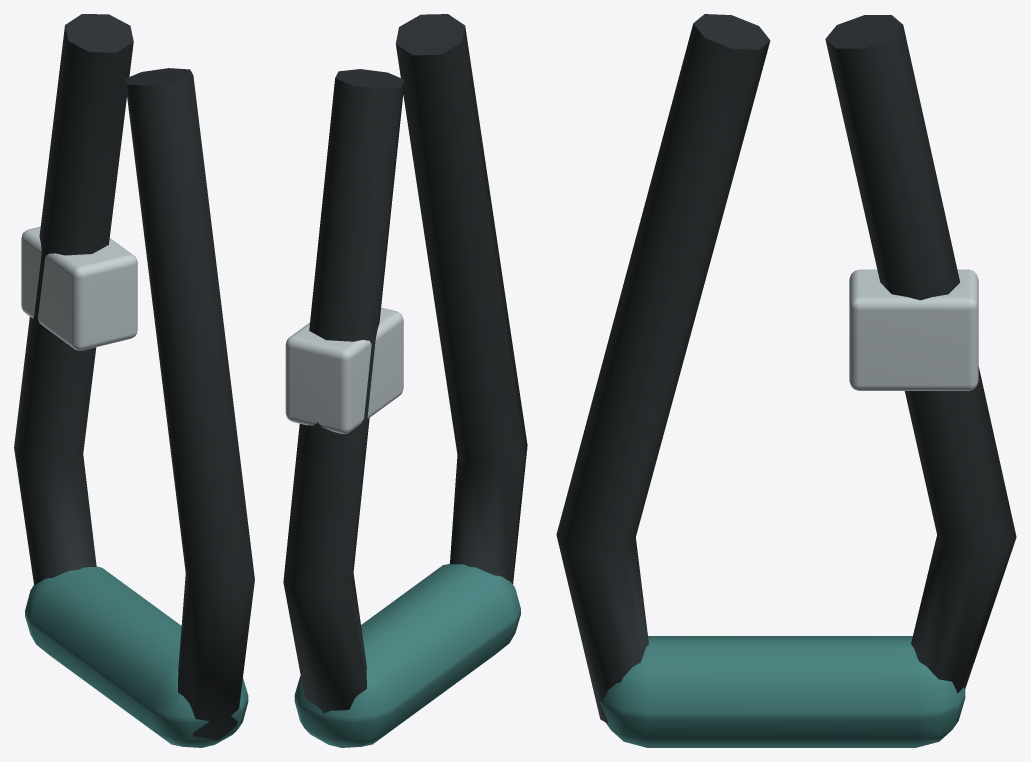
The model's file is BraunStrap.fbx.
3 views of the same model, side by side, from view 1: azimuth 30°, elevation 25°; view 2: azimuth 150°, elevation 25°; view 3: azimuth 270°, elevation 25° (orthographic). The views are drawn at different scales.
Visible parts, largest first — view 1: BraunStrap; view 2: BraunStrap; view 3: BraunStrap.
Boxes of the visible parts, <box> form: BraunStrap: <box>14,14,254,747</box>; BraunStrap: <box>283,14,527,747</box>; BraunStrap: <box>556,14,1016,747</box>.
Bounding box in the file's own units: 3.5 × 23.88 × 13.9.
